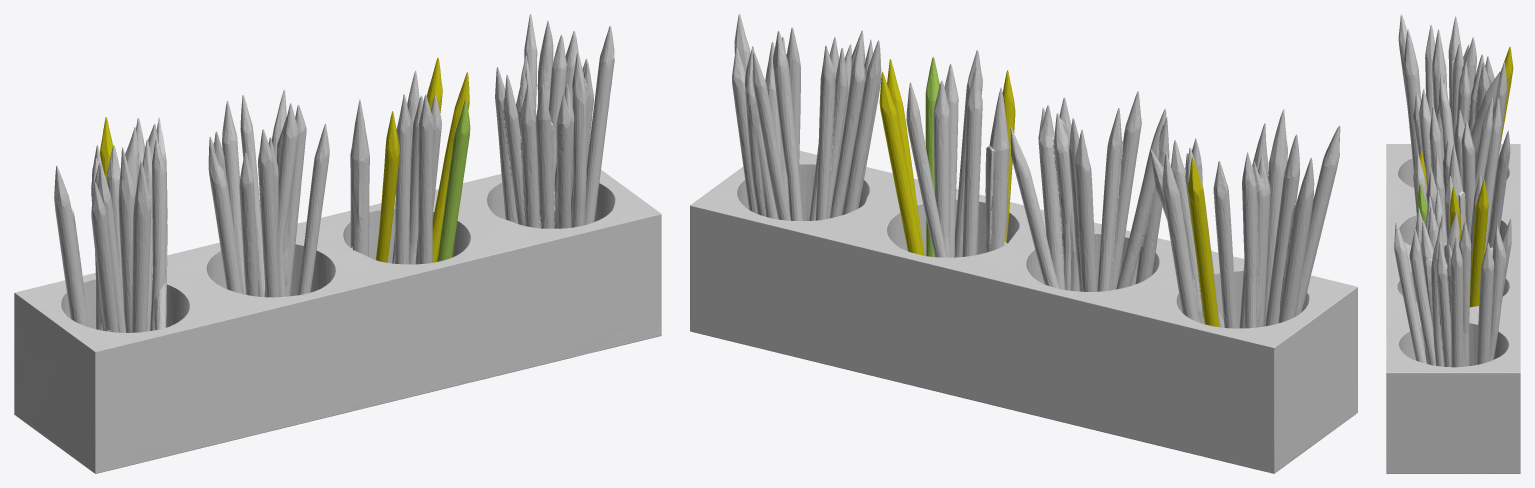
File: MDL_Organizador_02.fbx
3 views of the same model, side by side, from view 1: azimuth 30°, elevation 25°; view 2: azimuth 150°, elevation 25°; view 3: azimuth 270°, elevation 25° (orthographic). The views are drawn at different scales.
Parts seen in each view (by area): view 1: model_part25, model_part12, model_part1.026, model_part17, model_part16; view 2: model_part25, model_part12, model_part1.026, model_part17, model_part16; view 3: model_part25, model_part12, model_part1.026, model_part17, model_part16.
Part boxes in pixels (x1,y1,x2,y2): model_part25: (14, 170, 661, 473); model_part12: (54, 14, 574, 332); model_part1.026: (91, 25, 614, 332); model_part17: (91, 21, 593, 330); model_part16: (100, 57, 470, 262); model_part25: (690, 151, 1357, 473); model_part12: (752, 30, 1314, 328); model_part1.026: (734, 14, 1340, 326); model_part17: (732, 27, 1270, 328); model_part16: (879, 56, 1219, 327); model_part25: (1386, 144, 1520, 473); model_part12: (1394, 16, 1511, 365); model_part1.026: (1398, 14, 1475, 367); model_part17: (1426, 37, 1506, 366); model_part16: (1416, 46, 1513, 307).
Bounding box in the file's own units: 304 × 148 × 75.35.
